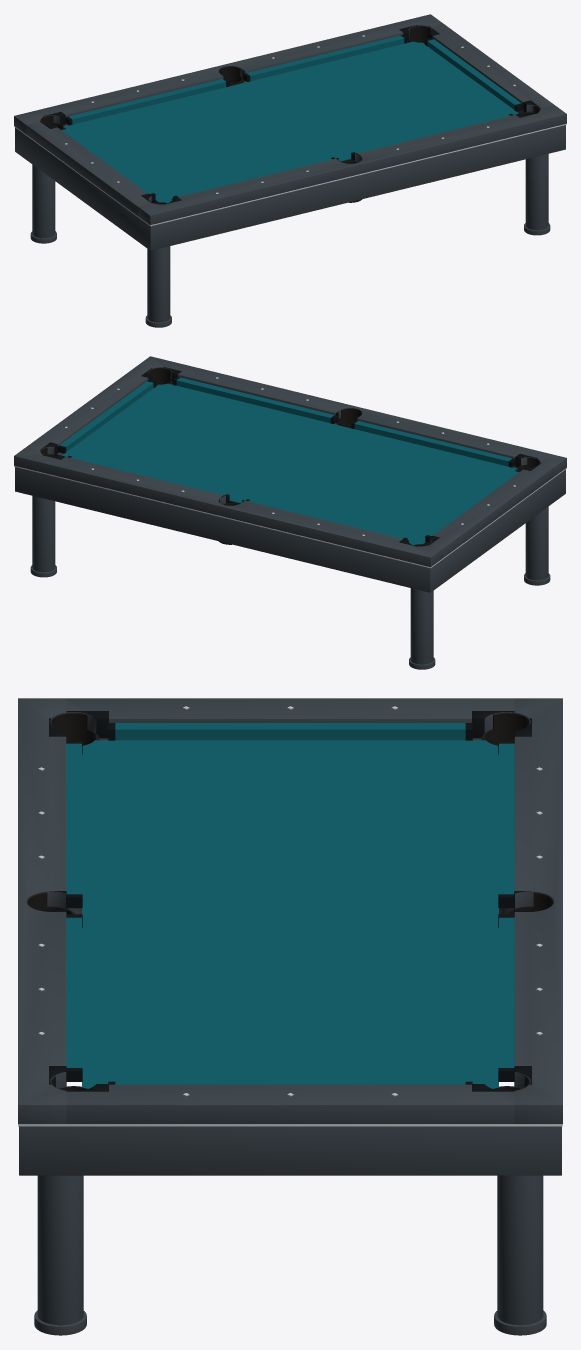
The model's file is table_b.glb.
The picture shows the model from 3 angles, top to bottom: view 1: azimuth 30°, elevation 25°; view 2: azimuth 150°, elevation 25°; view 3: azimuth 270°, elevation 25°; orthographic projection. The views are drawn at different scales.
Parts seen in each view (by area): view 1: SM_Cloth, SM_Rails, SM_Apron, SM_Legs, SM_Cushions, SM_PocketWells, SM_ApronReveal, SM_PocketJaws, SM_Facings; view 2: SM_Cloth, SM_Rails, SM_Apron, SM_Legs, SM_Cushions, SM_PocketWells, SM_ApronReveal, SM_PocketJaws, SM_Facings; view 3: SM_Cloth, SM_Rails, SM_Apron, SM_Cushions, SM_Legs, SM_PocketWells, SM_PocketJaws, SM_Facings, SM_ApronReveal.
Boxes of the visible parts, bbox=[...] form: SM_Cloth: bbox=[63, 41, 518, 203]; SM_Rails: bbox=[14, 14, 566, 225]; SM_Apron: bbox=[15, 41, 565, 250]; SM_Legs: bbox=[30, 154, 550, 327]; SM_Cushions: bbox=[61, 35, 520, 196]; SM_PocketWells: bbox=[41, 26, 539, 204]; SM_ApronReveal: bbox=[14, 124, 566, 226]; SM_PocketJaws: bbox=[39, 25, 540, 204]; SM_Facings: bbox=[60, 34, 523, 200]; SM_Cloth: bbox=[62, 383, 517, 545]; SM_Rails: bbox=[14, 356, 566, 567]; SM_Apron: bbox=[15, 383, 565, 592]; SM_Legs: bbox=[30, 496, 550, 669]; SM_Cushions: bbox=[60, 377, 519, 538]; SM_PocketWells: bbox=[41, 368, 539, 546]; SM_ApronReveal: bbox=[14, 466, 566, 568]; SM_PocketJaws: bbox=[40, 367, 541, 546]; SM_Facings: bbox=[57, 376, 520, 542]; SM_Cloth: bbox=[82, 740, 498, 1088]; SM_Rails: bbox=[18, 698, 562, 1124]; SM_Apron: bbox=[19, 738, 561, 1175]; SM_Cushions: bbox=[66, 723, 514, 1084]; SM_Legs: bbox=[34, 908, 546, 1335]; SM_PocketWells: bbox=[27, 713, 553, 1090]; SM_PocketJaws: bbox=[49, 711, 531, 1091]; SM_Facings: bbox=[66, 723, 514, 1084]; SM_ApronReveal: bbox=[18, 1124, 562, 1126].
Bounding box in the file's own units: 2.93 × 0.803 × 1.66.
